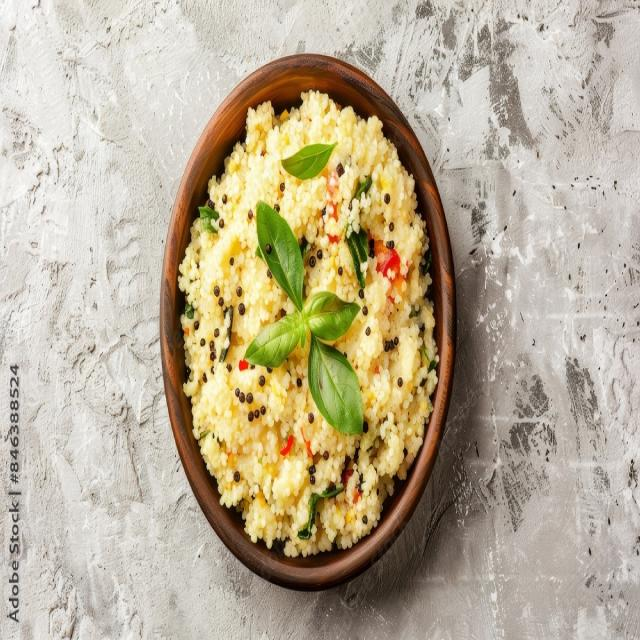UPMA: (173, 84, 452, 569)
